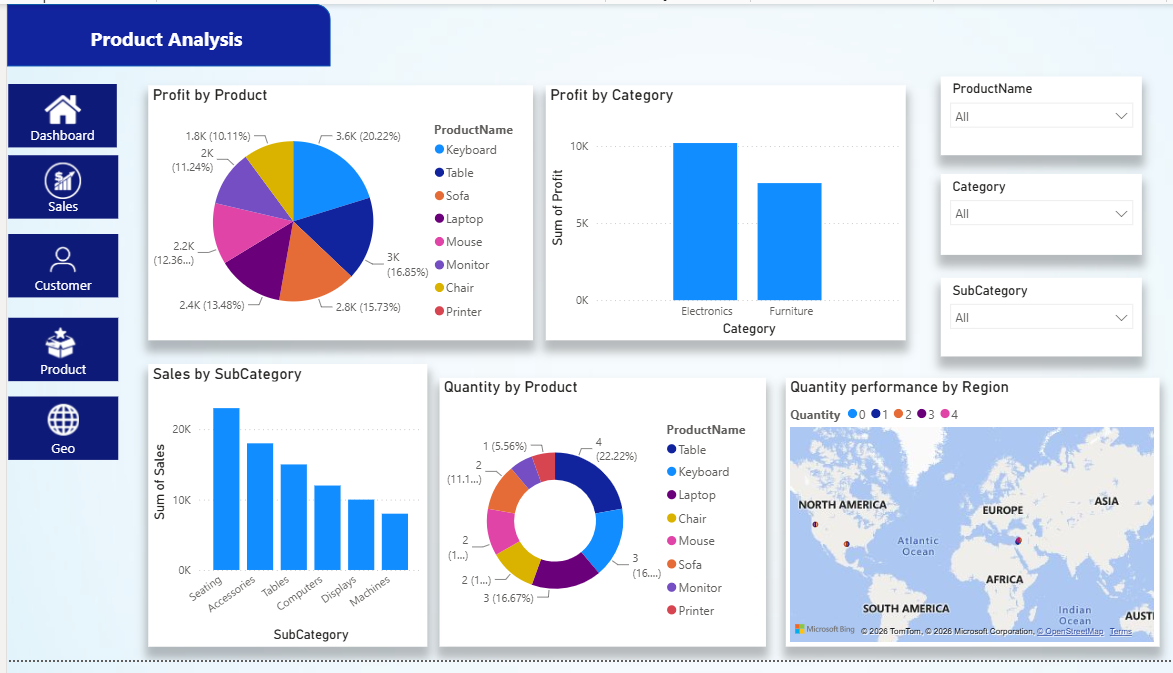

The dashboard page shown, as its layout file describes it:
{"tool":"powerbi","page":{"name":"Product analysis","canvas":[1280,720],"ordinal":3},"visuals":[{"type":"pieChart","title":" Profit by Product","fields":{"Y":["Sales.Total Profit"],"Category":["Product.ProductName"]},"box":[155.1,89.2,422.6,279.9],"z":0},{"type":"columnChart","title":" Profit by Category","fields":{"Category":["Product.Category"],"Y":["Sum(Sales.Profit)"]},"box":[591.4,89.2,395.2,279.9],"z":1000},{"type":"donutChart","title":"Quantity by Product","fields":{"Category":["Product.ProductName"],"Y":["Sum(Sales.Quantity)"]},"box":[474.8,410.3,358.1,295],"z":2000},{"type":"columnChart","title":" Sales by SubCategory","fields":{"Category":["Product.SubCategory"],"Y":["Sum(Sales.Sales)"]},"box":[155.1,395.2,306,310.1],"z":3000},{"type":"slicer","fields":{"Values":["Product.ProductName"]},"box":[1025,79.6,220.9,86.4],"z":4000},{"type":"map","title":"Quantity performance by Region","fields":{"Category":["Sales.Region"],"Series":["Sales.Quantity"]},"box":[854.9,410.3,410.3,295],"z":5000},{"type":"actionButton","box":[1.4,87.8,119.4,70],"z":6000},{"type":"actionButton","box":[1.4,166,120.8,70],"z":7000},{"type":"actionButton","box":[1.4,252.5,120.8,70],"z":8000},{"type":"actionButton","box":[1.4,344.4,120.8,70],"z":9000},{"type":"slicer","fields":{"Values":["Product.Category"]},"box":[1025,186.6,220.9,89.2],"z":10000},{"type":"slicer","fields":{"Values":["Product.SubCategory"]},"box":[1025,300.5,220.9,86.4],"z":11000},{"type":"actionButton","box":[1.4,430.9,120.8,70],"z":12000},{"type":"shape","box":[0,0,355.4,68.6],"z":13000}]}

Visuals, with their boxes in screenshot pixels (x1, y1, x2, y2), scaled from the page's 1280x720 canvas onto the 1173x673 screenshot:
" Profit by Product" pieChart: bbox=[142, 83, 529, 345]
" Profit by Category" columnChart: bbox=[542, 83, 904, 345]
"Quantity by Product" donutChart: bbox=[435, 384, 763, 659]
" Sales by SubCategory" columnChart: bbox=[142, 369, 423, 659]
slicer - Product.ProductName: bbox=[939, 74, 1142, 155]
"Quantity performance by Region" map: bbox=[783, 384, 1159, 659]
actionButton: bbox=[1, 82, 111, 147]
actionButton: bbox=[1, 155, 112, 221]
actionButton: bbox=[1, 236, 112, 301]
actionButton: bbox=[1, 322, 112, 387]
slicer - Product.Category: bbox=[939, 174, 1142, 258]
slicer - Product.SubCategory: bbox=[939, 281, 1142, 362]
actionButton: bbox=[1, 403, 112, 468]
shape: bbox=[0, 0, 326, 64]
